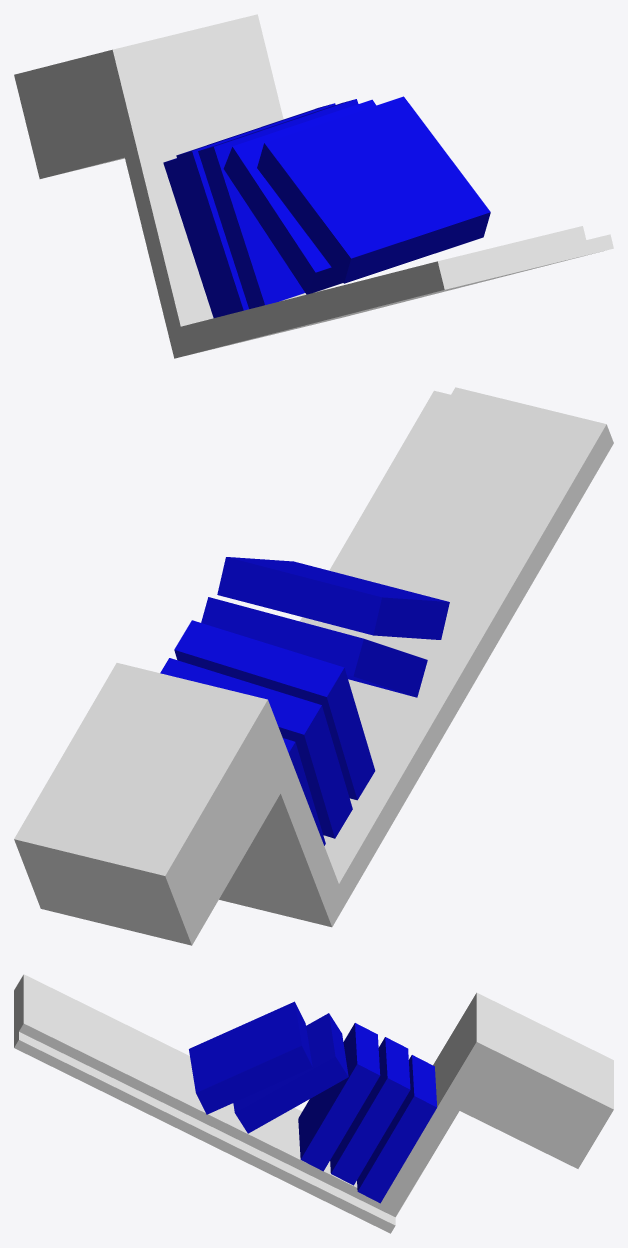
The model's file is bookshelf_v.fbx.
3 views of the same model, one above another, from view 1: azimuth 30°, elevation 25°; view 2: azimuth 150°, elevation 25°; view 3: azimuth 270°, elevation 25° (orthographic). The views are drawn at different scales.
Parts seen in each view (by area): view 1: Cube, Cube.005, Cube.003, Cube.004, Cube.001, Cube.002; view 2: Cube, Cube.005, Cube.003, Cube.004, Cube.001, Cube.002; view 3: Cube, Cube.005, Cube.003, Cube.004, Cube.001, Cube.002.
Part boxes in pixels (x1,y1,x2,y2): Cube: [14, 14, 613, 358]; Cube.005: [257, 96, 490, 283]; Cube.003: [198, 99, 358, 308]; Cube.004: [223, 99, 376, 294]; Cube.001: [176, 103, 335, 314]; Cube.002: [163, 158, 248, 317]; Cube: [14, 387, 613, 945]; Cube.005: [217, 557, 449, 639]; Cube.003: [174, 620, 375, 800]; Cube.004: [201, 597, 427, 697]; Cube.001: [160, 658, 352, 838]; Cube.002: [283, 738, 325, 845]; Cube: [14, 974, 613, 1233]; Cube.005: [189, 1001, 312, 1114]; Cube.003: [298, 1023, 380, 1171]; Cube.004: [233, 1013, 348, 1133]; Cube.001: [330, 1037, 410, 1185]; Cube.002: [357, 1055, 437, 1203].
Size of the model in its own units: 244 by 382 by 1028.
